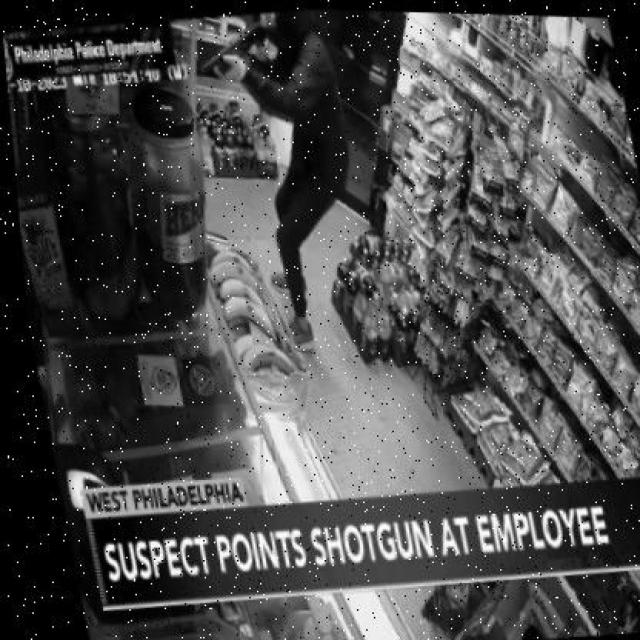weapon: (199, 20, 281, 78)
